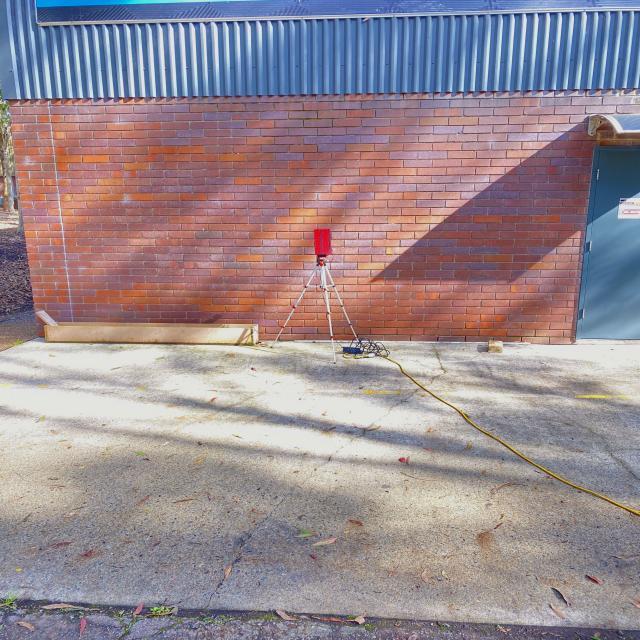matrix: (313, 229, 333, 255)
